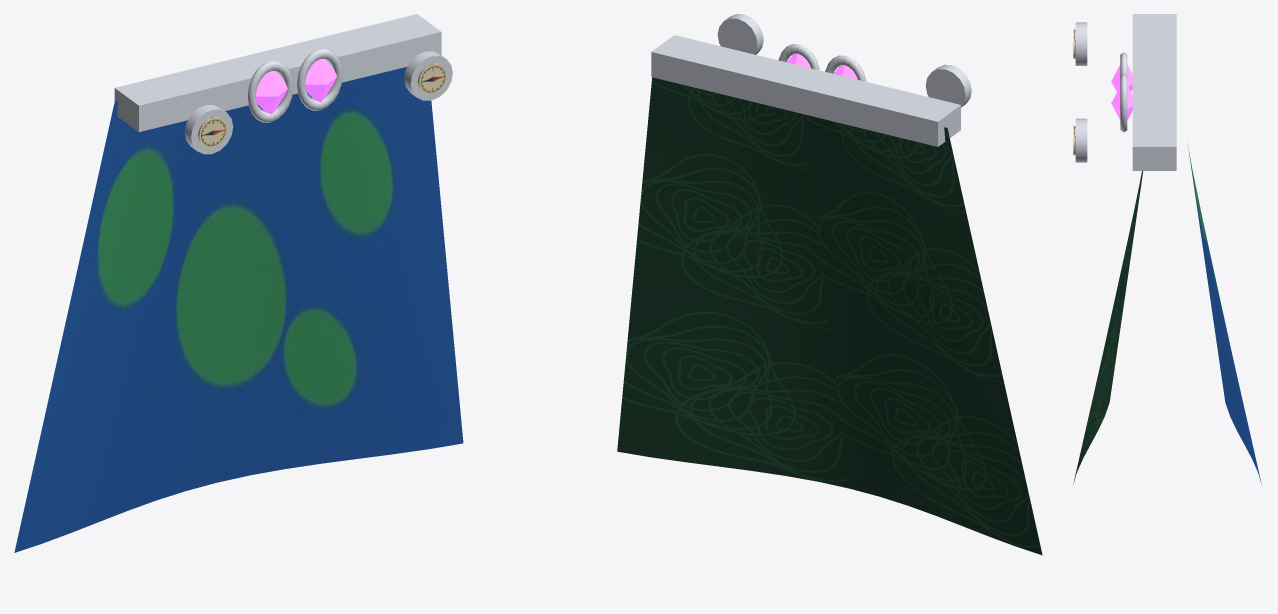
Rendered from back_eqsa2.glb.
The picture shows the model from 3 angles, left to right: view 1: azimuth 30°, elevation 25°; view 2: azimuth 150°, elevation 25°; view 3: azimuth 270°, elevation 25°; orthographic projection. The views are drawn at different scales.
Bounding box in the file's own units: 3.19 × 3.29 × 1.31.
Materials: 6 (4 with a texture image).
